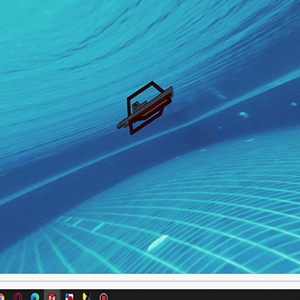submarine: (113, 78, 178, 127)
